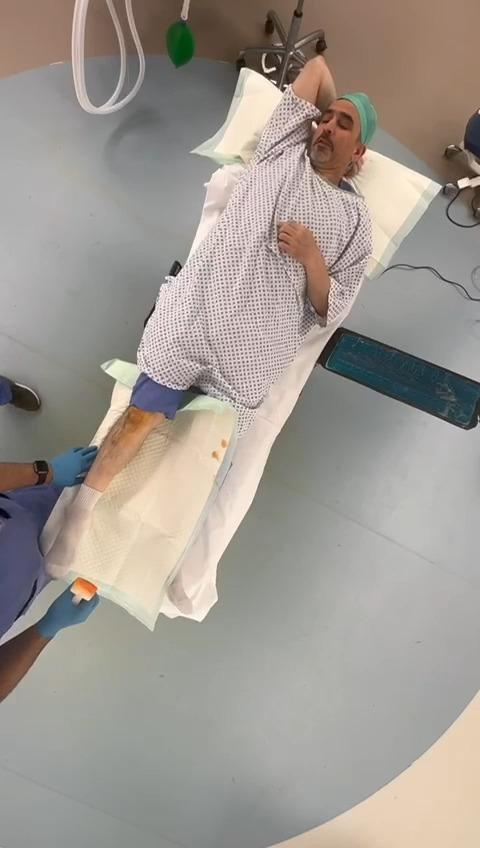patient: (46, 56, 376, 576)
prepstick: (70, 578, 98, 604)
